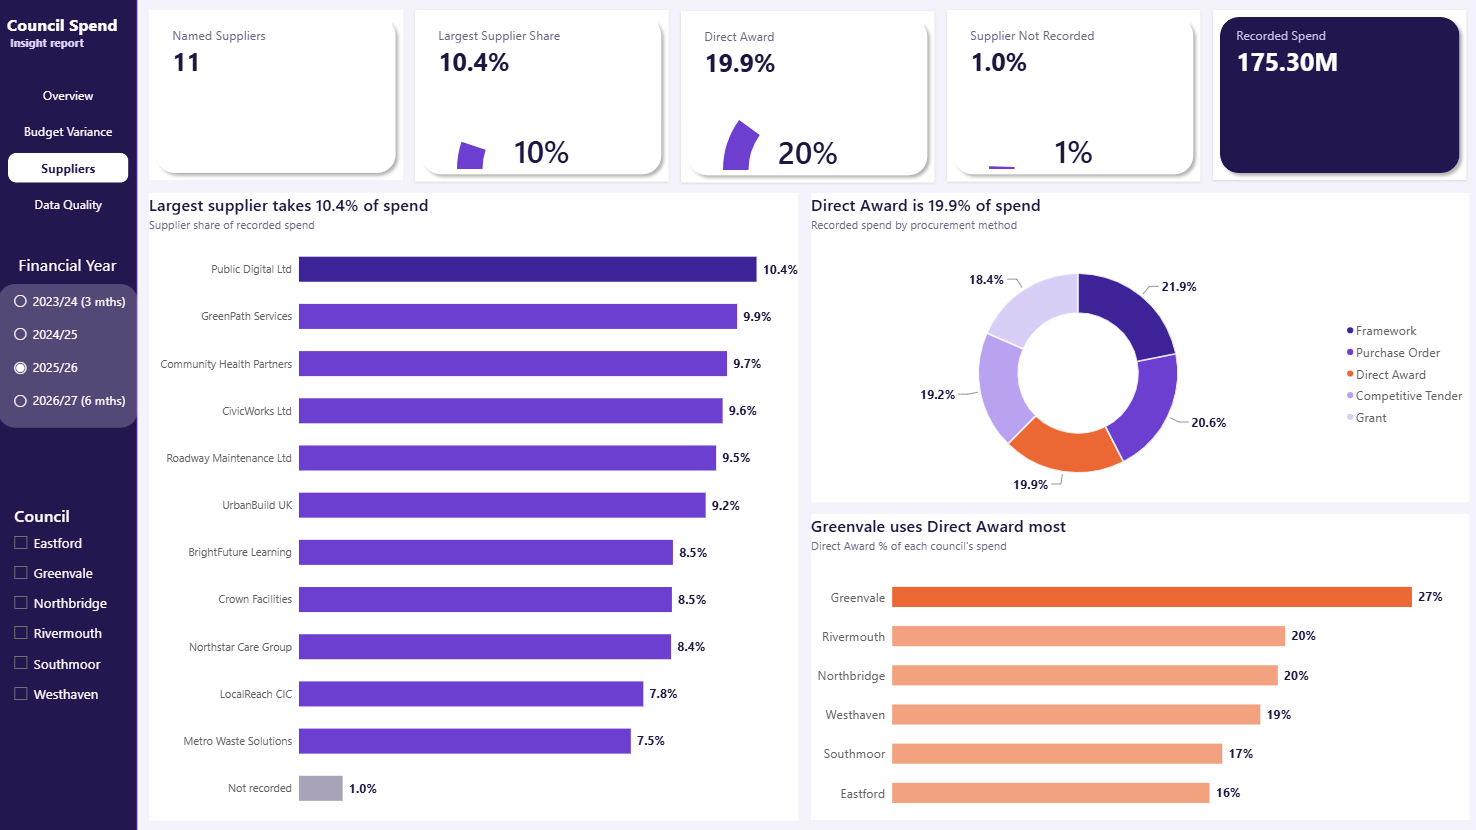

What the dashboard file says about the page in this screenshot:
{"tool":"powerbi","page":{"name":"Suppliers","canvas":[1920,1080],"ordinal":2},"visuals":[{"type":"shape","box":[0,0,180,1079.6],"z":0},{"type":"shape","box":[196,16,328,219.9],"z":0,"group":"g1"},{"type":"shape","box":[540,16,327.5,221.6],"z":0,"group":"g2"},{"type":"shape","box":[1228,16,327.5,221.6],"z":0,"group":"g3"},{"type":"shape","box":[1572,16,328,220],"z":0,"group":"g4"},{"type":"shape","box":[884.1,16.2,327.5,221.6],"z":0,"group":"g5"},{"type":"cardVisual","fields":{"Data":["Council_Spending_final.Named Suppliers"]},"box":[210,26,300,90],"z":1000,"group":"g1"},{"type":"cardVisual","fields":{"Data":["Council_Spending_final.Largest Supplier Share Text"]},"box":[554,26,300,90],"z":1000,"group":"g2"},{"type":"cardVisual","fields":{"Data":["Council_Spending_final.Supplier Not Recorded Text"]},"box":[1242,26,300,90],"z":1000,"group":"g3"},{"type":"cardVisual","fields":{"Data":["Council_Spending_final.Recorded Spend"]},"box":[1586,26,300,90],"z":1000,"group":"g4"},{"type":"cardVisual","fields":{"Data":["Council_Spending_final.Direct Award Text"]},"box":[898.1,26.2,300,90],"z":1000,"group":"g5"},{"type":"slicer","fields":{"Values":["Council_Spending_final.Financial Year"]},"box":[12.8,370.5,180.7,186.2],"z":1000},{"type":"gauge","fields":{"Y":["Council_Spending_final.Largest Supplier Share"]},"box":[594,106,220,120],"z":2000,"group":"g2"},{"type":"gauge","fields":{"Y":["Council_Spending_final.Supplier Not Recorded %"]},"box":[1282,106,220,120],"z":2000,"group":"g3"},{"type":"gauge","fields":{"Y":["Council_Spending_final.Direct Award %"]},"box":[938.1,106.2,220,120],"z":2000,"group":"g5"},{"type":"slicer","fields":{"Values":["Council_Spending_final.Council Short"]},"box":[12.8,655.2,155.1,277.4],"z":2000},{"type":"textbox","box":[12,20,156,60],"z":3000},{"type":"pageNavigator","box":[12.8,105.9,156,180],"z":4000},{"type":"group","id":"g1","title":"Tile Paid","box":[196,16,328,219.9],"z":5000},{"type":"group","id":"g2","title":"Tile Recorded","box":[540,16,327.5,221.6],"z":6000},{"type":"group","id":"g3","title":"Tile Pending","box":[1228,16,327.5,221.6],"z":7000},{"type":"group","id":"g4","title":"Tile Variance","box":[1572,16,328,220],"z":8000},{"type":"shape","box":[0,370.5,180.7,186.2],"z":9000},{"type":"textbox","box":[0,330.1,179.7,39.7],"z":10000},{"type":"group","id":"g5","title":"Tile Pending","box":[884.1,16.2,327.1,221],"z":11000},{"type":"clusteredBarChart","fields":{"Category":["Council_Spending_final.supplier_name"],"Y":["Council_Spending_final.Supplier Share %"]},"box":[196,252,840,812],"z":12000},{"type":"donutChart","fields":{"Category":["Council_Spending_final.procurement_method"],"Y":["Council_Spending_final.Recorded Spend"]},"box":[1052,252,852,400],"z":13000},{"type":"clusteredBarChart","fields":{"Category":["Council_Spending_final.Council Short"],"Y":["Council_Spending_final.Direct Award %"]},"box":[1052,668,852,396],"z":14000}]}

Visuals, with their boxes in screenshot pixels (x1, y1, x2, y2), scaled from the page's 1920x1080 canvas onto the 1476x830 screenshot:
shape: 0, 0, 138, 829
shape: 151, 12, 403, 181
shape: 415, 12, 667, 183
shape: 944, 12, 1196, 183
shape: 1208, 12, 1461, 181
shape: 680, 12, 931, 183
cardVisual - Council_Spending_final.Named Suppliers: 161, 20, 392, 89
cardVisual - Council_Spending_final.Largest Supplier Share Text: 426, 20, 657, 89
cardVisual - Council_Spending_final.Supplier Not Recorded Text: 955, 20, 1185, 89
cardVisual - Council_Spending_final.Recorded Spend: 1219, 20, 1450, 89
cardVisual - Council_Spending_final.Direct Award Text: 690, 20, 921, 89
slicer - Council_Spending_final.Financial Year: 10, 285, 149, 428
gauge - Council_Spending_final.Largest Supplier Share: 457, 81, 626, 174
gauge - Council_Spending_final.Supplier Not Recorded %: 986, 81, 1155, 174
gauge - Council_Spending_final.Direct Award %: 721, 82, 890, 174
slicer - Council_Spending_final.Council Short: 10, 504, 129, 717
textbox: 9, 15, 129, 61
pageNavigator: 10, 81, 130, 220
"Tile Paid" group: 151, 12, 403, 181
"Tile Recorded" group: 415, 12, 667, 183
"Tile Pending" group: 944, 12, 1196, 183
"Tile Variance" group: 1208, 12, 1461, 181
shape: 0, 285, 139, 428
textbox: 0, 254, 138, 284
"Tile Pending" group: 680, 12, 931, 182
clusteredBarChart - Council_Spending_final.supplier_name x Council_Spending_final.Supplier Share %: 151, 194, 796, 818
donutChart - Council_Spending_final.procurement_method x Council_Spending_final.Recorded Spend: 809, 194, 1464, 501
clusteredBarChart - Council_Spending_final.Council Short x Council_Spending_final.Direct Award %: 809, 513, 1464, 818
